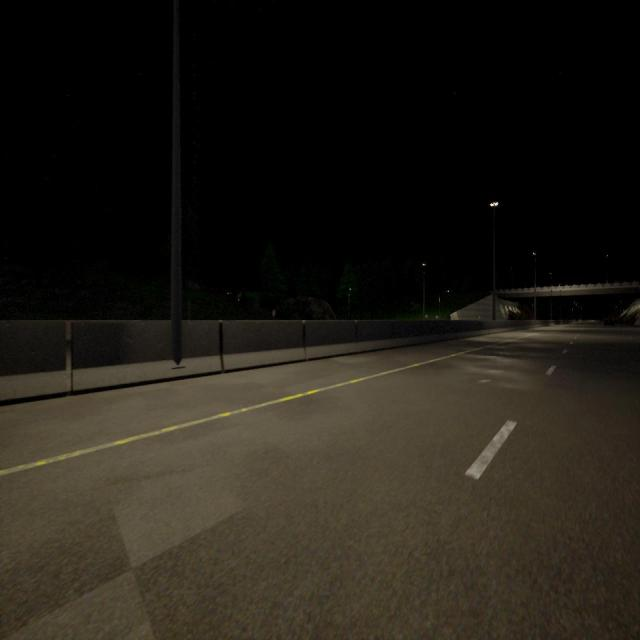Vehicle: (604, 318, 614, 326)
